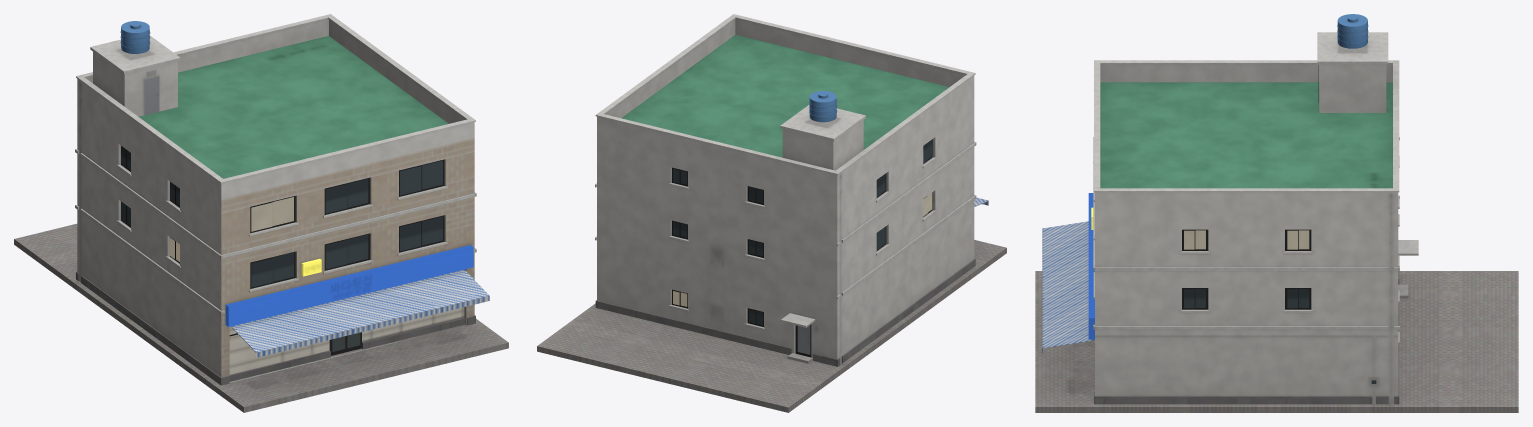
File: IlsanHoetjip01_LOD2.fbx
3 views of the same model, side by side, from view 1: azimuth 30°, elevation 25°; view 2: azimuth 150°, elevation 25°; view 3: azimuth 270°, elevation 25° (orthographic). The views are drawn at different scales.
Parts seen in each view (by area): view 1: IlsanHoetjip01_LOD2; view 2: IlsanHoetjip01_LOD2; view 3: IlsanHoetjip01_LOD2.
Boxes of the visible parts, left/top/right/bottom form: IlsanHoetjip01_LOD2: left=14, top=14, right=508, bottom=412; IlsanHoetjip01_LOD2: left=537, top=14, right=1006, bottom=412; IlsanHoetjip01_LOD2: left=1035, top=14, right=1518, bottom=412.
Size of the model in its own units: 15.9 by 15.35 by 23.9.
Materials: 1 (1 with a texture image).
